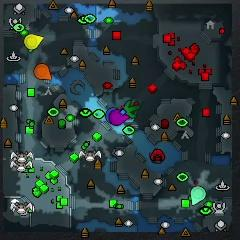p1: (105, 107, 118, 122)
p2: (191, 187, 206, 205)
p3: (109, 110, 129, 125)
p4: (25, 34, 44, 49)
p5: (34, 64, 51, 80)
x4: (123, 101, 140, 120)
